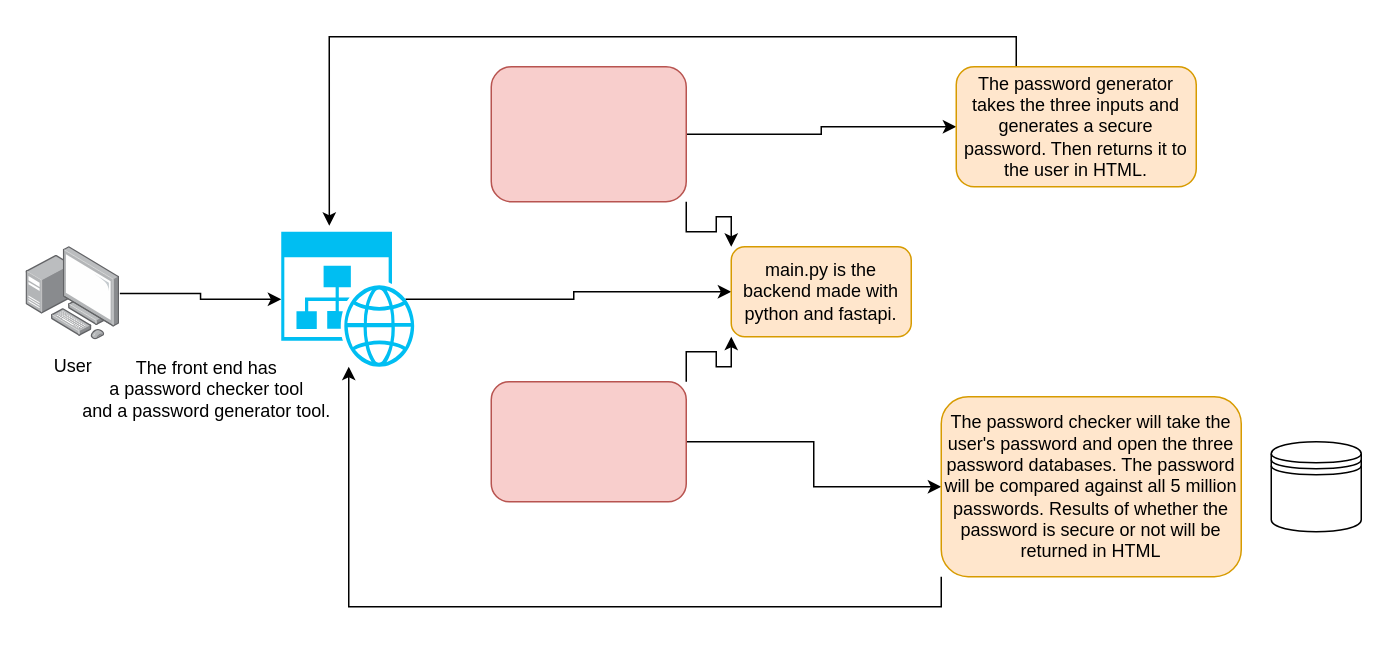
Image size: 1388x645. Some labels were removed from this diagram. Here are the shapes that lost their labels. From the top down, the centre of each, then its label:
point 588,133: Password generator takes three inputs: numLetters, numNum, and numSchars
point 588,441: Password checker takes user's password and checks against database
